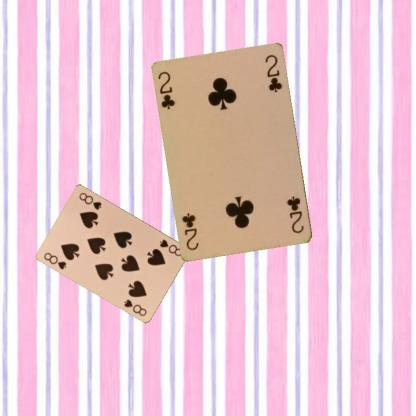2c: (284, 193, 306, 234), (156, 69, 177, 111)
8s: (157, 236, 184, 258), (42, 250, 68, 270)
